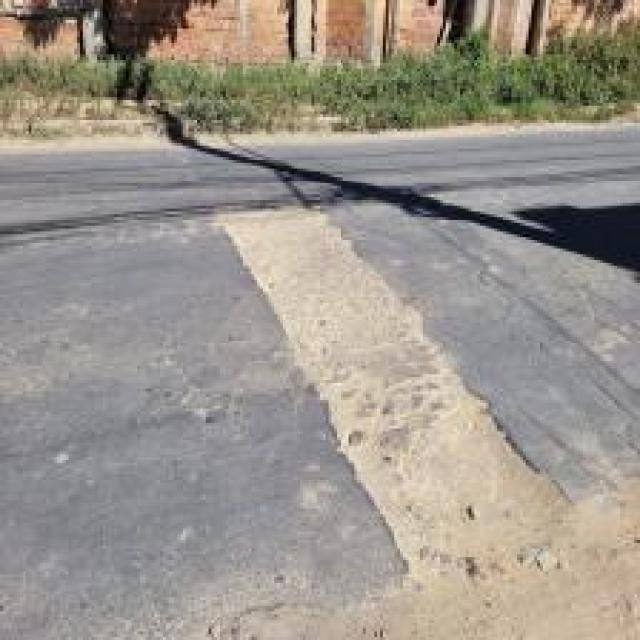BACHE: (221, 210, 555, 585)
PIEL DE COCODRILO: (139, 322, 304, 466), (460, 252, 639, 378)
